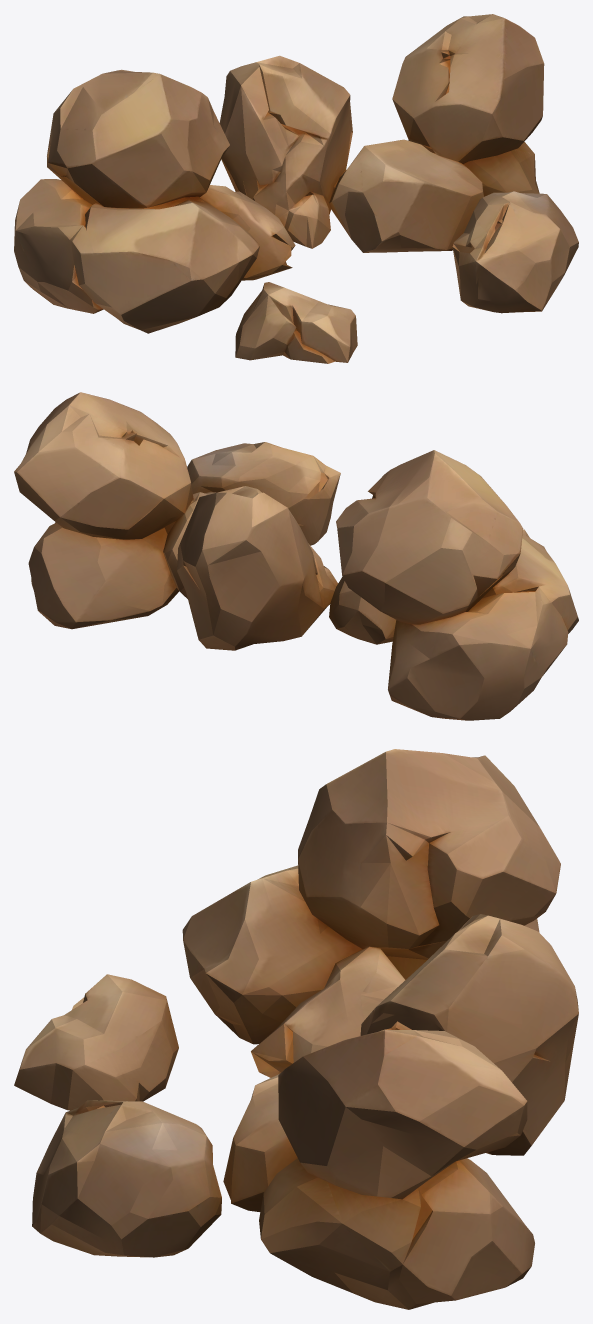
File: rocks.glb
The picture shows the model from 3 angles, top to bottom: view 1: azimuth 30°, elevation 25°; view 2: azimuth 150°, elevation 25°; view 3: azimuth 270°, elevation 25°; orthographic projection. The views are drawn at different scales.
Visible parts, largest first — view 1: model; view 2: model; view 3: model.
Boxes of the visible parts, left/top/right/bottom form: model: left=14, top=14, right=578, bottom=363; model: left=14, top=392, right=578, bottom=720; model: left=14, top=749, right=578, bottom=1309.
Size of the model in its own units: 1.89 by 0.8211 by 1.3.
1 material, 1 textured.
